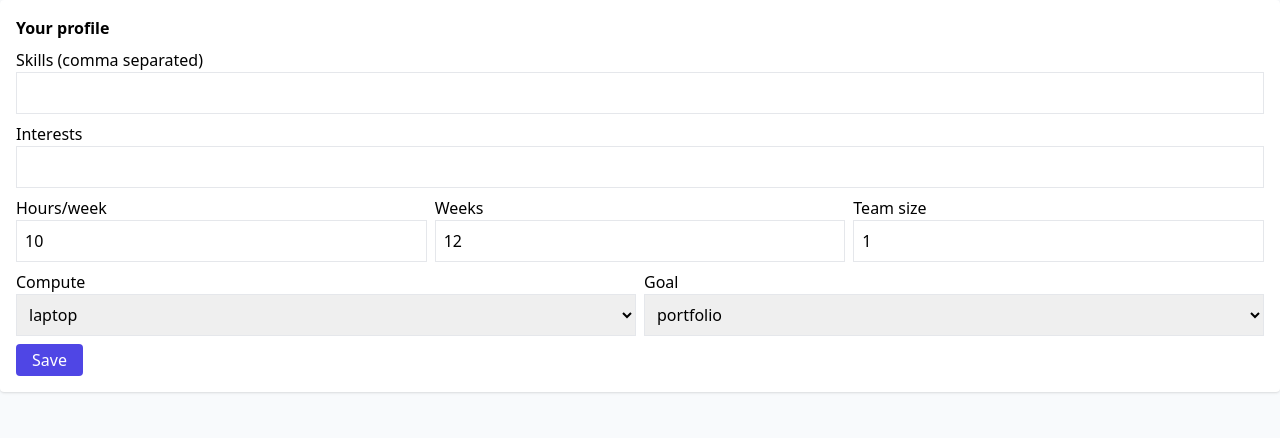
ProfileForm › validates and submits
Click the button "Save" at (49, 360), box x1=16 y1=344 x2=83 y2=376
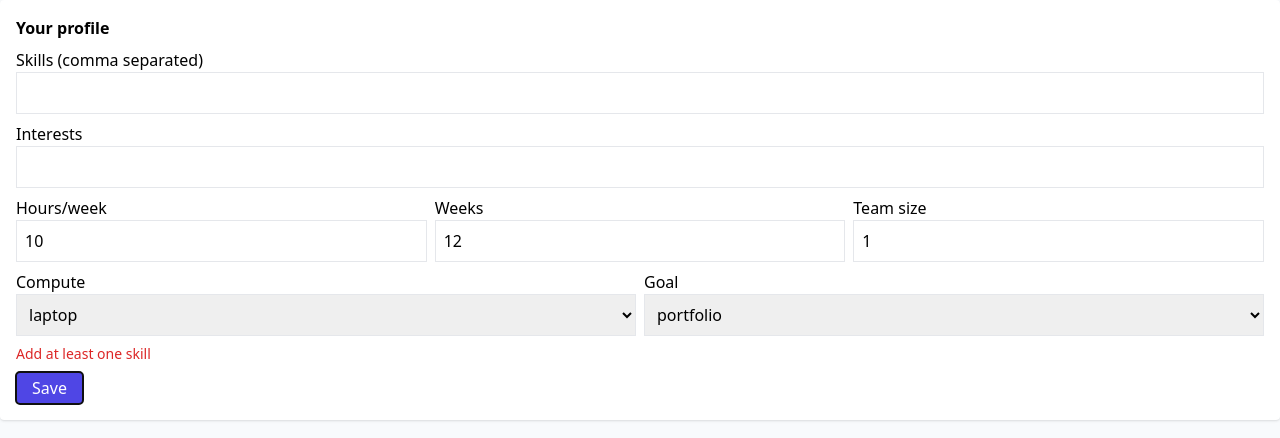
Expected: the message reads "Add at least one skill", x1=16 y1=344 x2=151 y2=363
Type "python, react" into the field labelled "Skills" at (640, 93), box x1=16 y1=72 x2=1264 y2=114
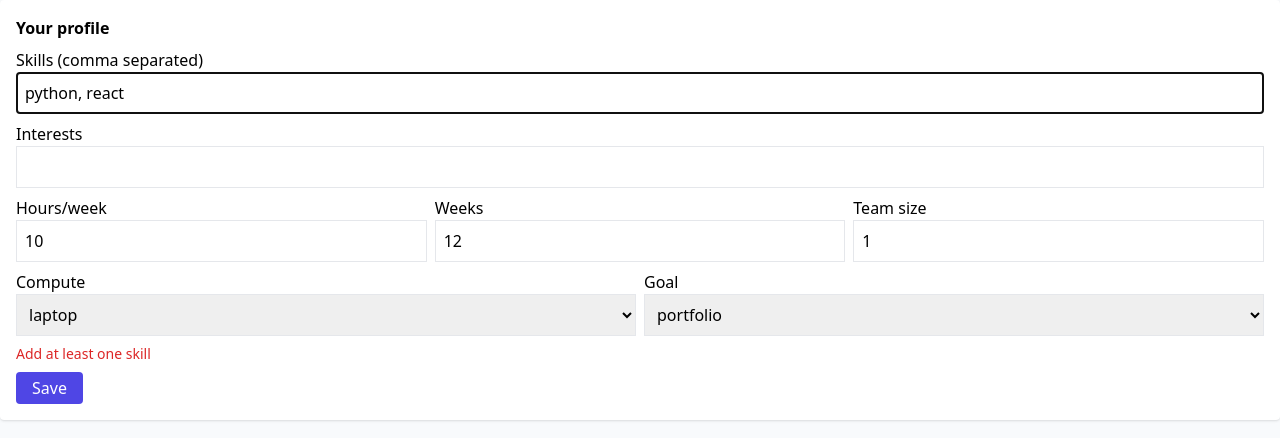
Replace the text in the field labelled "Team" with "9" at (1059, 241), box x1=853 y1=220 x2=1264 y2=262
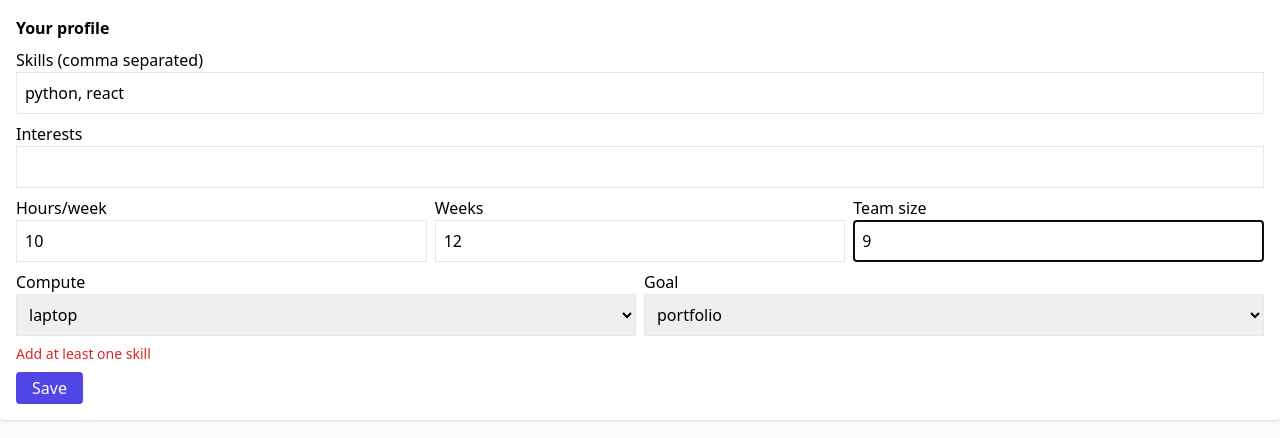
Click the button "Save" at (49, 388), box x1=16 y1=372 x2=83 y2=404
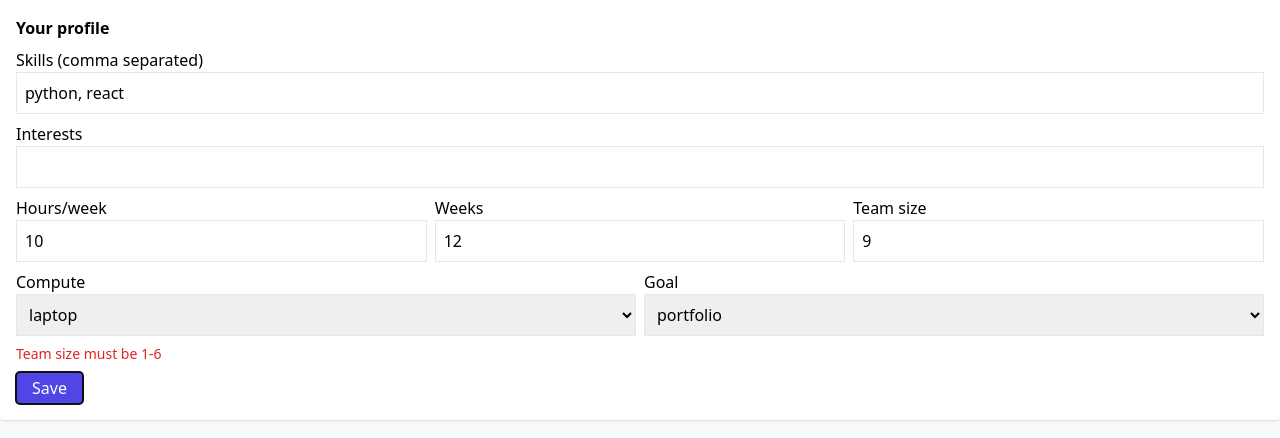
Expected: the message reads "Team size must be 1-6", x1=16 y1=344 x2=162 y2=363
Replace the text in the field labelled "Team" with "2" at (1059, 241), box x1=853 y1=220 x2=1264 y2=262
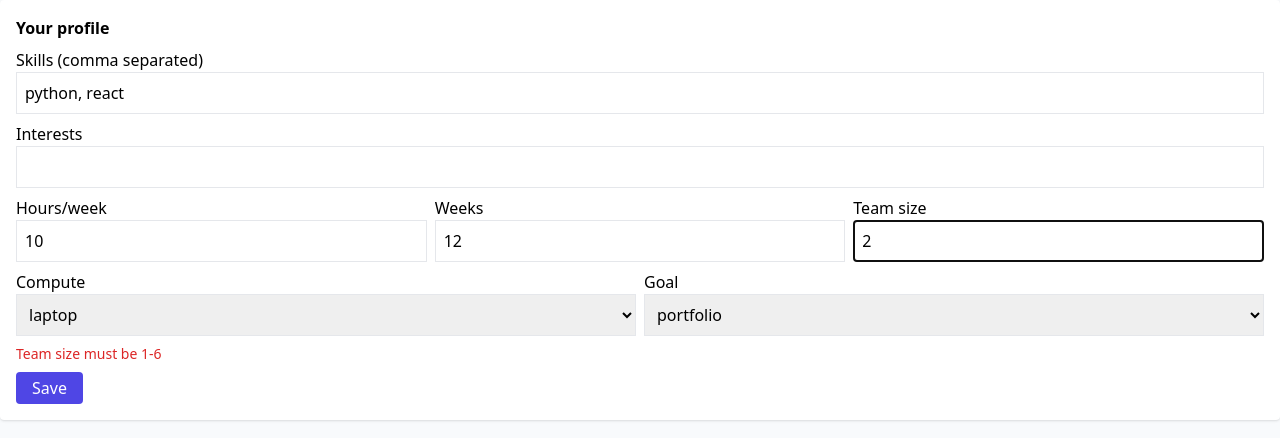
Click the button "Save" at (49, 388), box x1=16 y1=372 x2=83 y2=404
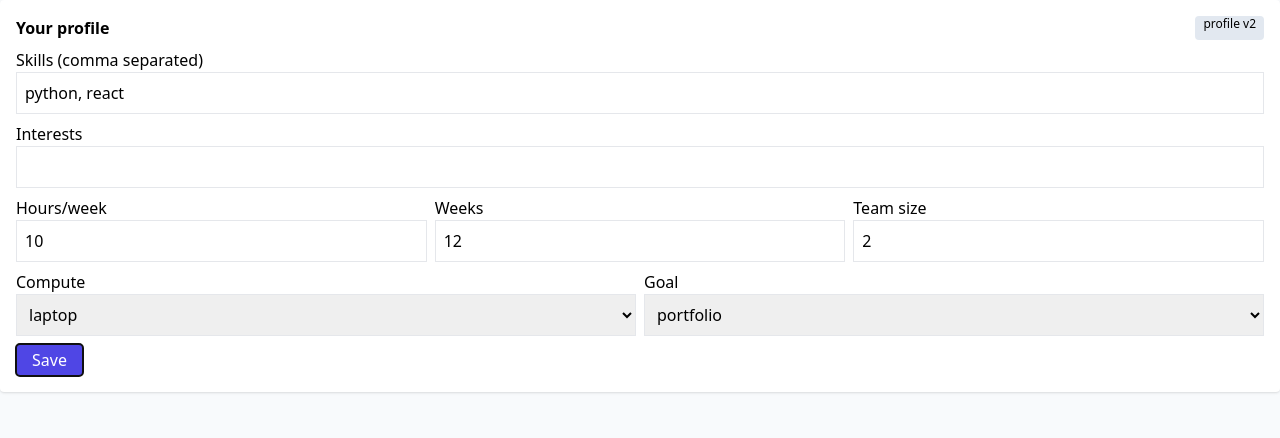
Expected: the text "profile v2" is shown, x1=1196 y1=16 x2=1264 y2=40
